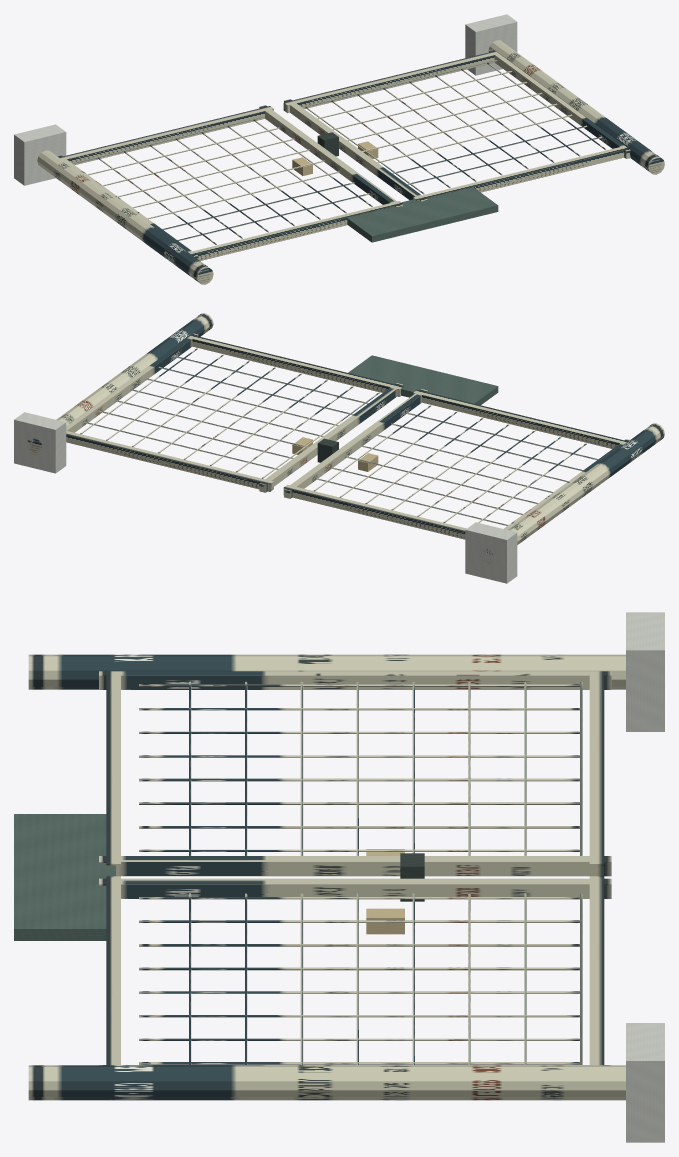
The model's file is PZ_RAD_06_Double_Hinged_Security_Gate_4m.glb.
3 views of the same model, one above another, from view 1: azimuth 30°, elevation 25°; view 2: azimuth 150°, elevation 25°; view 3: azimuth 270°, elevation 25° (orthographic). The views are drawn at different scales.
Parts seen in each view (by area): view 1: GATE_RIGHT_DoorLeaf_RectangularSteelFrame, GATE_LEFT_DoorLeaf_RectangularSteelFrame, GATE_RIGHT_DoorLeaf_WireMeshFill, GATE_LEFT_DoorLeaf_WireMeshFill, GATE_Gate_Overhead_SiteNotice, GATE_Fixed_SteelHingePost_-2, GATE_Fixed_SteelHingePost_2, GATE_Fixed_ConcretePostFooting_-2, GATE_Fixed_ConcretePostFooting_2; view 2: GATE_RIGHT_DoorLeaf_RectangularSteelFrame, GATE_LEFT_DoorLeaf_RectangularSteelFrame, GATE_RIGHT_DoorLeaf_WireMeshFill, GATE_LEFT_DoorLeaf_WireMeshFill, GATE_Fixed_SteelHingePost_-2, GATE_Gate_Overhead_SiteNotice, GATE_Fixed_ConcretePostFooting_-2, GATE_Fixed_ConcretePostFooting_2, GATE_Fixed_SteelHingePost_2; view 3: GATE_LEFT_DoorLeaf_RectangularSteelFrame, GATE_Fixed_SteelHingePost_2, GATE_RIGHT_DoorLeaf_RectangularSteelFrame, GATE_LEFT_DoorLeaf_WireMeshFill, GATE_RIGHT_DoorLeaf_WireMeshFill, GATE_Fixed_SteelHingePost_-2, GATE_Gate_Overhead_SiteNotice, GATE_Fixed_ConcretePostFooting_-2, GATE_Fixed_ConcretePostFooting_2, GATE_RIGHT_Handle.
Boxes of the visible parts, bbox=[...] form: GATE_RIGHT_DoorLeaf_RectangularSteelFrame: bbox=[283, 49, 630, 201]; GATE_LEFT_DoorLeaf_RectangularSteelFrame: bbox=[57, 105, 403, 260]; GATE_RIGHT_DoorLeaf_WireMeshFill: bbox=[302, 60, 606, 194]; GATE_LEFT_DoorLeaf_WireMeshFill: bbox=[72, 116, 372, 244]; GATE_Gate_Overhead_SiteNotice: bbox=[347, 187, 498, 242]; GATE_Fixed_SteelHingePost_-2: bbox=[37, 150, 213, 284]; GATE_Fixed_SteelHingePost_2: bbox=[488, 40, 664, 174]; GATE_Fixed_ConcretePostFooting_-2: bbox=[14, 124, 66, 185]; GATE_Fixed_ConcretePostFooting_2: bbox=[465, 14, 517, 75]; GATE_RIGHT_DoorLeaf_RectangularSteelFrame: bbox=[66, 333, 403, 492]; GATE_LEFT_DoorLeaf_RectangularSteelFrame: bbox=[283, 389, 629, 539]; GATE_RIGHT_DoorLeaf_WireMeshFill: bbox=[80, 348, 379, 478]; GATE_LEFT_DoorLeaf_WireMeshFill: bbox=[313, 405, 597, 525]; GATE_Fixed_SteelHingePost_-2: bbox=[478, 423, 664, 564]; GATE_Gate_Overhead_SiteNotice: bbox=[348, 355, 498, 405]; GATE_Fixed_ConcretePostFooting_-2: bbox=[465, 522, 517, 583]; GATE_Fixed_ConcretePostFooting_2: bbox=[14, 412, 66, 473]; GATE_Fixed_SteelHingePost_2: bbox=[27, 313, 213, 454]; GATE_LEFT_DoorLeaf_RectangularSteelFrame: bbox=[99, 671, 611, 876]; GATE_Fixed_SteelHingePost_2: bbox=[28, 1065, 625, 1100]; GATE_RIGHT_DoorLeaf_RectangularSteelFrame: bbox=[99, 876, 611, 1065]; GATE_LEFT_DoorLeaf_WireMeshFill: bbox=[139, 681, 582, 855]; GATE_RIGHT_DoorLeaf_WireMeshFill: bbox=[139, 893, 582, 1064]; GATE_Fixed_SteelHingePost_-2: bbox=[28, 654, 625, 689]; GATE_Gate_Overhead_SiteNotice: bbox=[14, 814, 115, 940]; GATE_Fixed_ConcretePostFooting_-2: bbox=[626, 612, 664, 731]; GATE_Fixed_ConcretePostFooting_2: bbox=[626, 1023, 664, 1142]; GATE_RIGHT_Handle: bbox=[366, 908, 404, 934].
Size of the model in its own units: 4.37 by 0.37 by 2.68.
1 material, 1 textured.
